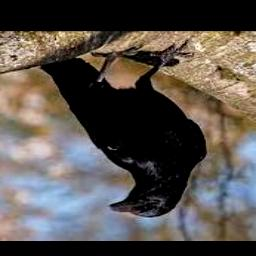Crow: (40, 43, 207, 217)
